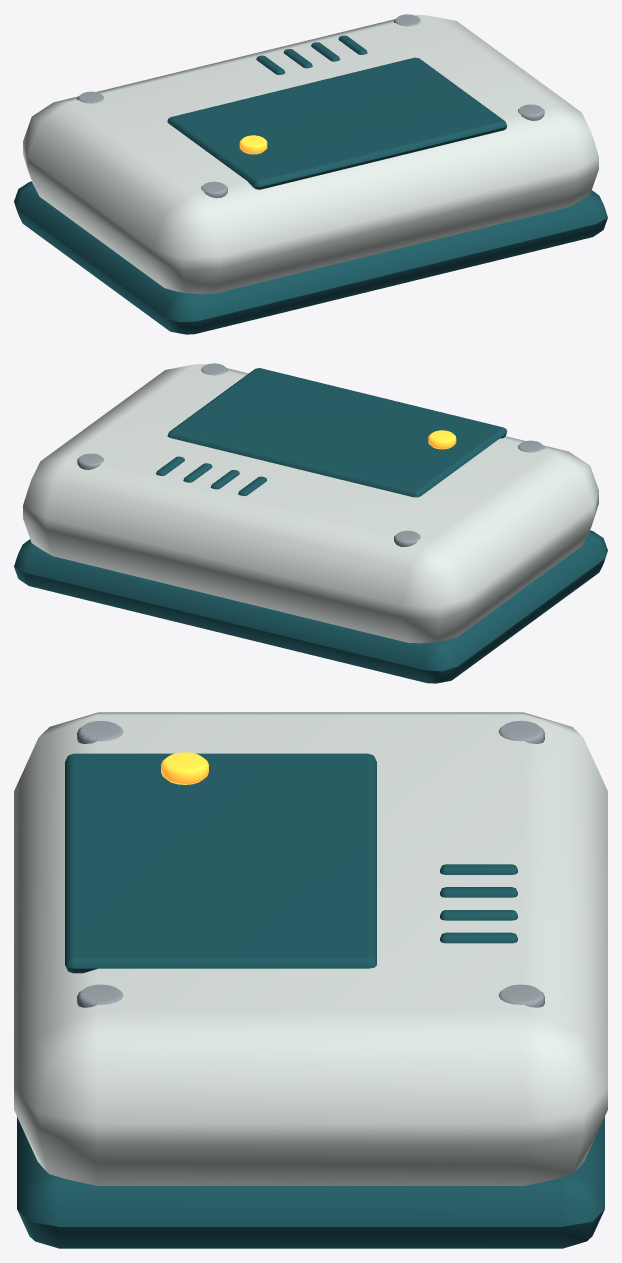
Rendered from sensor.glb.
3 views of the same model, one above another, from view 1: azimuth 30°, elevation 25°; view 2: azimuth 150°, elevation 25°; view 3: azimuth 270°, elevation 25° (orthographic). The views are drawn at different scales.
Visible parts, largest first — view 1: SensorLoggerComposite; view 2: SensorLoggerComposite; view 3: SensorLoggerComposite.
Boxes of the visible parts, box(x1,y1,x2,y2) form: SensorLoggerComposite: box(14, 14, 607, 334); SensorLoggerComposite: box(14, 363, 607, 683); SensorLoggerComposite: box(14, 712, 607, 1248).
Size of the model in its own units: 0.145 by 0.0445 by 0.099.
